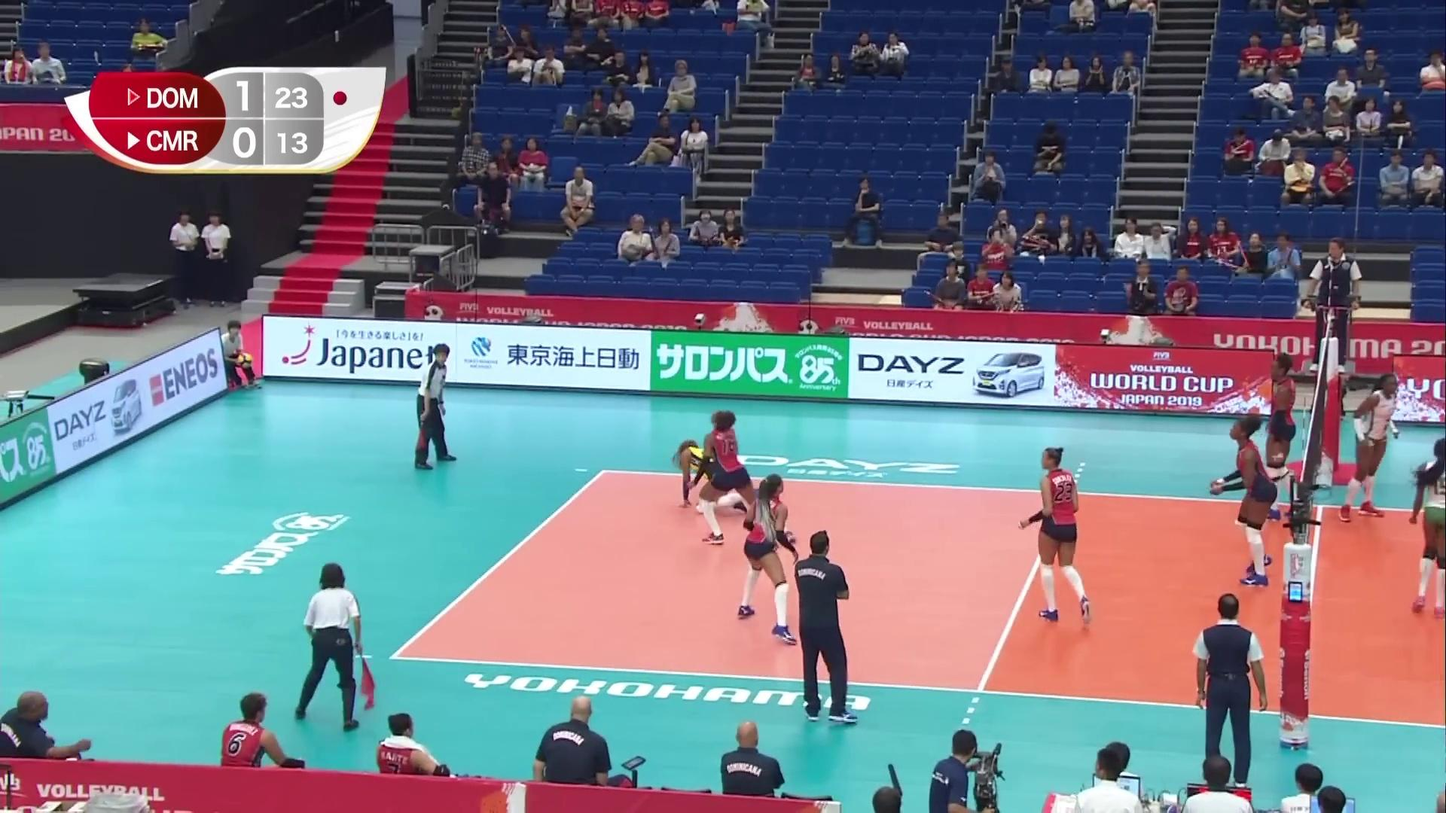player: (693, 412, 793, 547), (1022, 447, 1093, 624), (1211, 413, 1277, 592), (737, 475, 799, 643), (1335, 373, 1399, 521), (1263, 354, 1305, 522), (1410, 437, 1446, 618), (675, 440, 761, 512)
refree: (1195, 595, 1267, 789), (294, 567, 369, 727), (1309, 239, 1361, 359), (413, 340, 456, 470)
